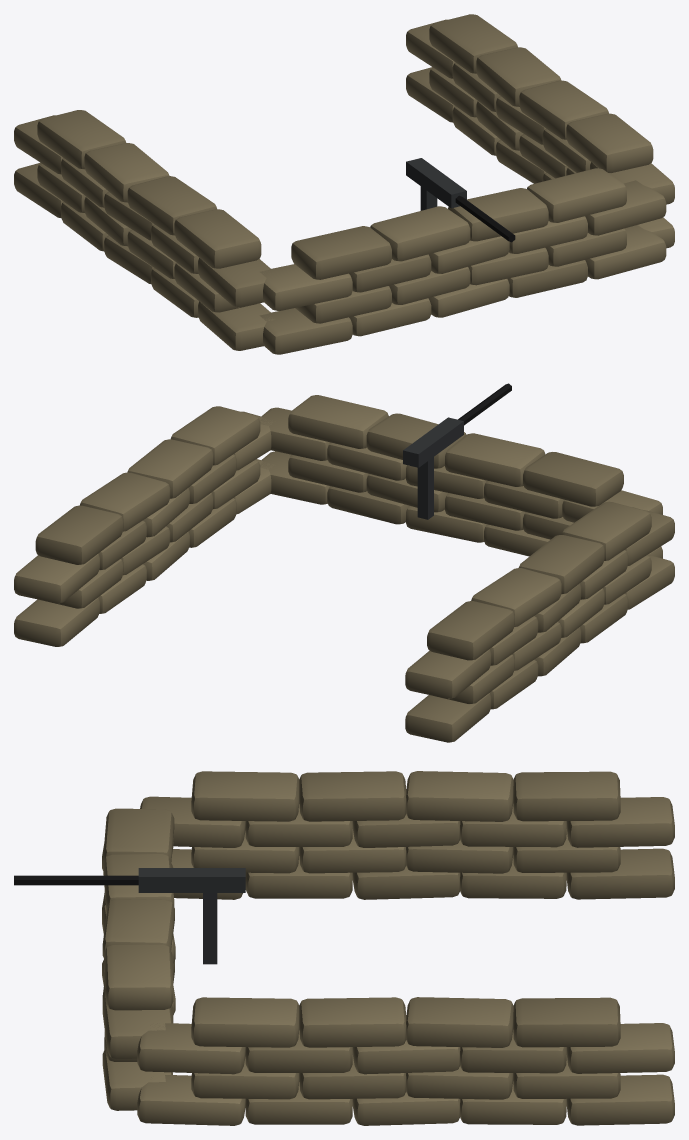
File: sandbag-nest.glb
3 renders of one model, top to bottom at view 1: azimuth 30°, elevation 25°; view 2: azimuth 150°, elevation 25°; view 3: azimuth 270°, elevation 25°, orthographic. The views are drawn at different scales.
Visible parts, largest first — view 1: Piece_lod0; view 2: Piece_lod0; view 3: Piece_lod0.
Part boxes in pixels (x1,y1,x2,y2): Piece_lod0: (14,14,674,354); Piece_lod0: (14,383,674,742); Piece_lod0: (14,771,674,1125).
Size of what is drawn, in the model's own units: 3.41 by 0.795 by 3.71.
